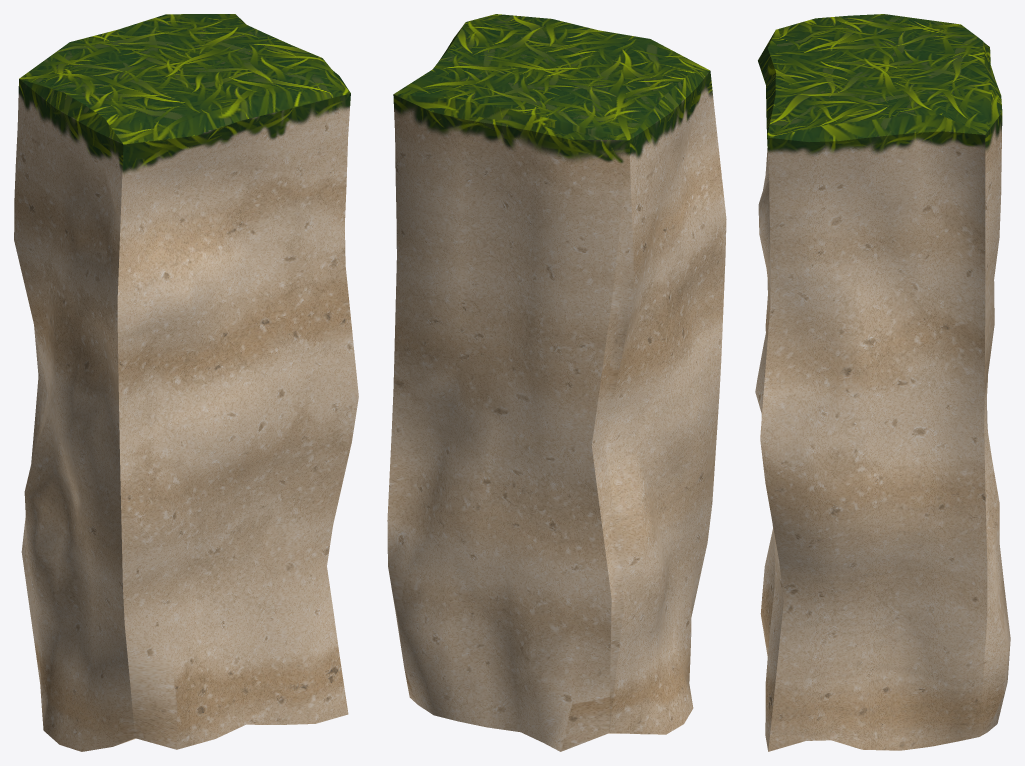
File: Knight-TEX-plat 3.fbx
The picture shows the model from 3 angles, left to right: view 1: azimuth 30°, elevation 25°; view 2: azimuth 150°, elevation 25°; view 3: azimuth 270°, elevation 25°; orthographic projection. The views are drawn at different scales.
Parts seen in each view (by area): view 1: polySurface237; view 2: polySurface237; view 3: polySurface237.
Boxes of the visible parts, bbox=[...] form: polySurface237: bbox=[14, 14, 358, 751]; polySurface237: bbox=[387, 14, 726, 751]; polySurface237: bbox=[755, 14, 1010, 751].
Size of the model in its own units: 4.27 by 10.49 by 3.76.
1 material, 1 textured.
